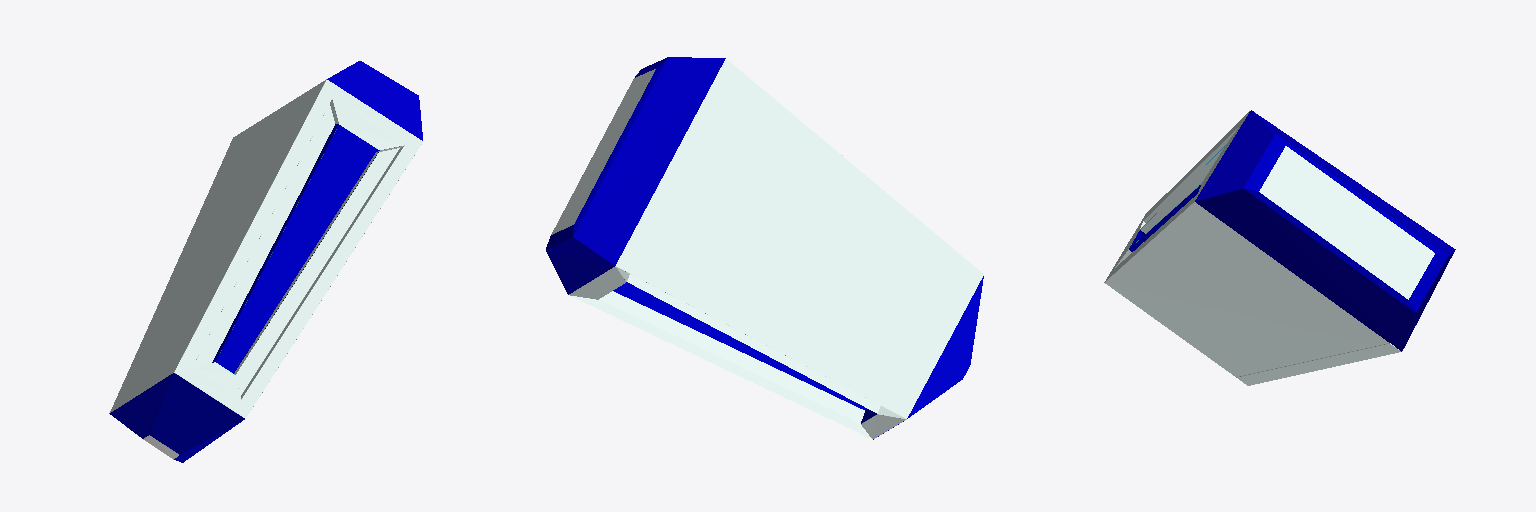
Rendered from light.obj.
3 renders of one model, left to right at view 1: azimuth 30°, elevation 25°; view 2: azimuth 150°, elevation 25°; view 3: azimuth 270°, elevation 25°, orthographic.
Parts seen in each view (by area): view 1: Cube; view 2: Cube; view 3: Cube.
Part boxes in pixels (left/top/right/bottom): Cube: left=109, top=61, right=422, bottom=462; Cube: left=546, top=57, right=983, bottom=439; Cube: left=1104, top=110, right=1455, bottom=385.
Bounding box in the file's own units: 2.71 × 2.91 × 2.67.